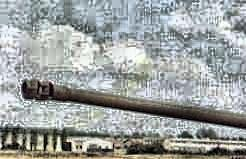tanks: (23, 82, 246, 129), (236, 158, 246, 159)
